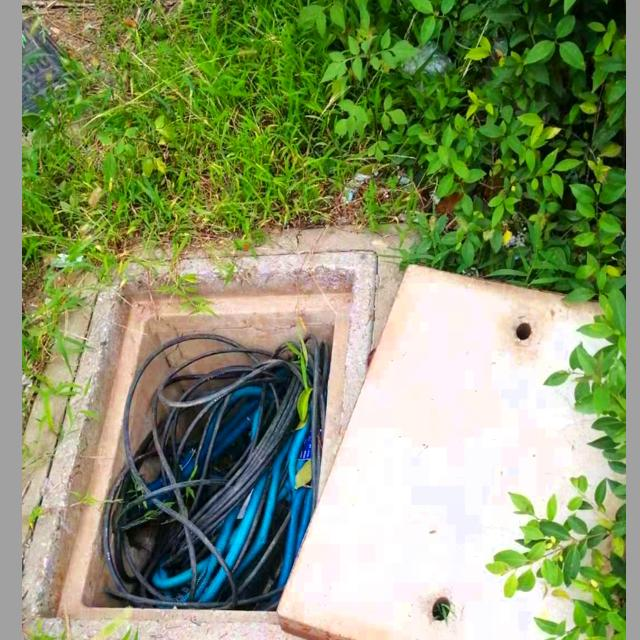uncovered: (21, 263, 626, 640)
